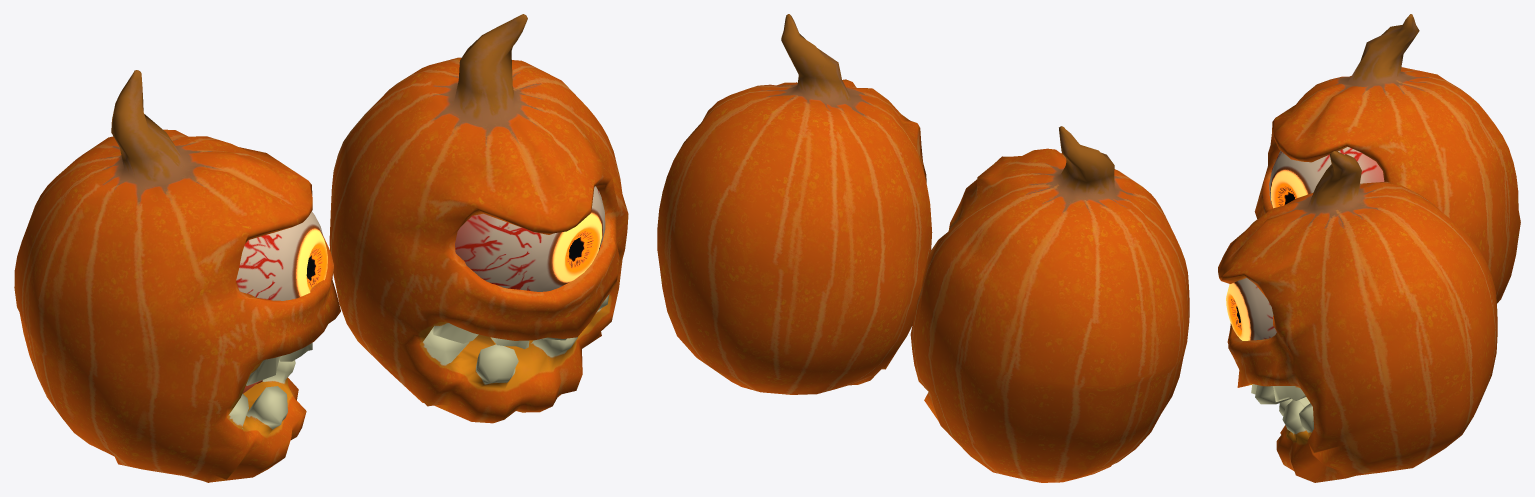
File: halloween_pumpkin.glb
The picture shows the model from 3 angles, left to right: view 1: azimuth 30°, elevation 25°; view 2: azimuth 150°, elevation 25°; view 3: azimuth 270°, elevation 25°; orthographic projection. The views are drawn at different scales.
Visible parts, largest first — view 1: g (×4); view 2: g (×2); view 3: g (×4).
Boxes of the visible parts, x1,y1,x2,y2 form: g (×4): (14,14,628,482); g (×2): (657,14,1189,482); g (×4): (1218,14,1520,482).
Size of the model in its own units: 2.08 by 1.42 by 1.15.
Materials: 1 (1 with a texture image).
